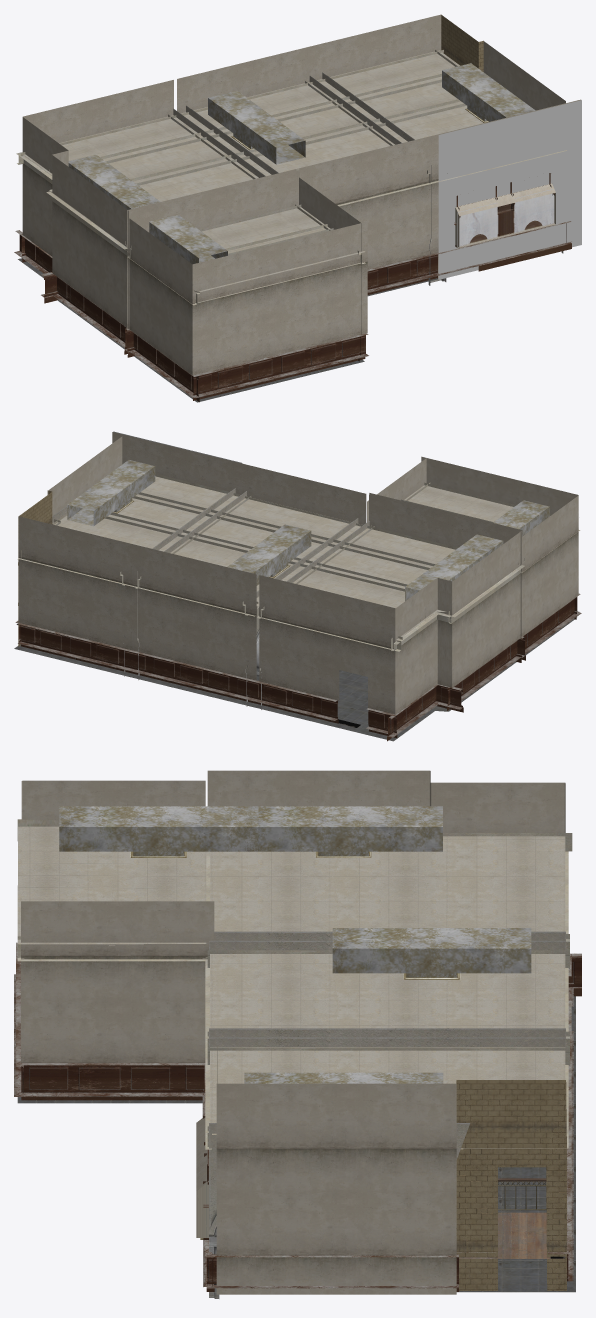
File: st4_208_0_terrain_00ms.mesh.fbx
3 renders of one model, top to bottom at view 1: azimuth 30°, elevation 25°; view 2: azimuth 150°, elevation 25°; view 3: azimuth 270°, elevation 25°, orthographic. The views are drawn at different scales.
Parts seen in each view (by area): view 1: LOD_1_Group_0_Sub_2__st2_208_0_001_st2_208_0_WestOffice_be40, LOD_1_Group_0_Sub_14__st2_208_0_001_st2_208_0_WestOffic_a8cd, LOD_1_Group_0_Sub_6__st4_CounterWall, LOD_1_Group_0_Sub_4__st2_208_0_001_st2_208_0_WestOffice_61a2, LOD_1_Group_0_Sub_17__st2_208_0_001_st2_208_0_WestOffic_9913, LOD_1_Group_0_Sub_13__st2_208_0_001_st2_208_0_WestOffic_cc78, LOD_1_Group_0_Sub_7__st2_208_0_001_st2_208_0_WestOffice_07d2, LOD_1_Group_0_Sub_1__st2_208_0_001_st2_208_0_WestOffice_a257, LOD_1_Group_0_Sub_5__st2_208_0_001_st2_208_0_WestOffice_f29c, LOD_1_Group_0_Sub_9__st2_208_0_001_st2_208_0_WestOffice_5563, LOD_1_Group_0_Sub_21__st2_208_0_001_st2_208_0_WestOffic_8134; view 2: LOD_1_Group_0_Sub_2__st2_208_0_001_st2_208_0_WestOffice_be40, LOD_1_Group_0_Sub_14__st2_208_0_001_st2_208_0_WestOffic_a8cd, LOD_1_Group_0_Sub_4__st2_208_0_001_st2_208_0_WestOffice_61a2, LOD_1_Group_0_Sub_17__st2_208_0_001_st2_208_0_WestOffic_9913, LOD_1_Group_0_Sub_13__st2_208_0_001_st2_208_0_WestOffic_cc78, LOD_1_Group_0_Sub_9__st2_208_0_001_st2_208_0_WestOffice_5563, LOD_1_Group_0_Sub_7__st2_208_0_001_st2_208_0_WestOffice_07d2, LOD_1_Group_0_Sub_5__st2_208_0_001_st2_208_0_WestOffice_f29c; view 3: LOD_1_Group_0_Sub_2__st2_208_0_001_st2_208_0_WestOffice_be40, LOD_1_Group_0_Sub_14__st2_208_0_001_st2_208_0_WestOffic_a8cd, LOD_1_Group_0_Sub_17__st2_208_0_001_st2_208_0_WestOffic_9913, LOD_1_Group_0_Sub_5__st2_208_0_001_st2_208_0_WestOffice_f29c, LOD_1_Group_0_Sub_4__st2_208_0_001_st2_208_0_WestOffice_61a2, LOD_1_Group_0_Sub_7__st2_208_0_001_st2_208_0_WestOffice_07d2, LOD_1_Group_0_Sub_13__st2_208_0_001_st2_208_0_WestOffic_cc78, LOD_1_Group_0_Sub_9__st2_208_0_001_st2_208_0_WestOffice_5563, LOD_1_Group_0_Sub_11__st2_208_0_001_st2_208_0_WestOffic_6741.
Boxes of the visible parts, x1,y1,x2,y2 form: LOD_1_Group_0_Sub_2__st2_208_0_001_st2_208_0_WestOffice_be40: (22, 14, 580, 375); LOD_1_Group_0_Sub_14__st2_208_0_001_st2_208_0_WestOffic_a8cd: (20, 50, 483, 291); LOD_1_Group_0_Sub_6__st4_CounterWall: (438, 100, 581, 279); LOD_1_Group_0_Sub_4__st2_208_0_001_st2_208_0_WestOffice_61a2: (14, 221, 571, 402); LOD_1_Group_0_Sub_17__st2_208_0_001_st2_208_0_WestOffic_9913: (68, 63, 535, 264); LOD_1_Group_0_Sub_13__st2_208_0_001_st2_208_0_WestOffic_cc78: (16, 50, 566, 305); LOD_1_Group_0_Sub_7__st2_208_0_001_st2_208_0_WestOffice_07d2: (173, 72, 563, 285); LOD_1_Group_0_Sub_1__st2_208_0_001_st2_208_0_WestOffice_a257: (457, 189, 554, 247); LOD_1_Group_0_Sub_5__st2_208_0_001_st2_208_0_WestOffice_f29c: (441, 15, 483, 71); LOD_1_Group_0_Sub_9__st2_208_0_001_st2_208_0_WestOffice_5563: (18, 258, 437, 402); LOD_1_Group_0_Sub_21__st2_208_0_001_st2_208_0_WestOffic_8134: (454, 173, 554, 248); LOD_1_Group_0_Sub_2__st2_208_0_001_st2_208_0_WestOffice_be40: (18, 432, 578, 714); LOD_1_Group_0_Sub_14__st2_208_0_001_st2_208_0_WestOffic_a8cd: (54, 476, 513, 640); LOD_1_Group_0_Sub_4__st2_208_0_001_st2_208_0_WestOffice_61a2: (15, 593, 581, 741); LOD_1_Group_0_Sub_17__st2_208_0_001_st2_208_0_WestOffic_9913: (67, 460, 549, 601); LOD_1_Group_0_Sub_13__st2_208_0_001_st2_208_0_WestOffic_cc78: (17, 474, 580, 651); LOD_1_Group_0_Sub_9__st2_208_0_001_st2_208_0_WestOffice_5563: (14, 619, 574, 741); LOD_1_Group_0_Sub_7__st2_208_0_001_st2_208_0_WestOffice_07d2: (52, 488, 369, 709); LOD_1_Group_0_Sub_5__st2_208_0_001_st2_208_0_WestOffice_f29c: (18, 490, 52, 646); LOD_1_Group_0_Sub_2__st2_208_0_001_st2_208_0_WestOffice_be40: (21, 770, 565, 1294); LOD_1_Group_0_Sub_14__st2_208_0_001_st2_208_0_WestOffic_a8cd: (17, 826, 565, 1122); LOD_1_Group_0_Sub_17__st2_208_0_001_st2_208_0_WestOffic_9913: (59, 806, 531, 1083); LOD_1_Group_0_Sub_5__st2_208_0_001_st2_208_0_WestOffice_f29c: (456, 1080, 566, 1290); LOD_1_Group_0_Sub_4__st2_208_0_001_st2_208_0_WestOffice_61a2: (14, 942, 581, 1291); LOD_1_Group_0_Sub_7__st2_208_0_001_st2_208_0_WestOffice_07d2: (209, 931, 565, 1298); LOD_1_Group_0_Sub_13__st2_208_0_001_st2_208_0_WestOffic_cc78: (17, 819, 572, 1149); LOD_1_Group_0_Sub_9__st2_208_0_001_st2_208_0_WestOffice_5563: (17, 996, 575, 1292); LOD_1_Group_0_Sub_11__st2_208_0_001_st2_208_0_WestOffic_6741: (459, 1212, 563, 1258).
Bounding box in the file's own units: 16.74 × 5.17 × 12.2.
